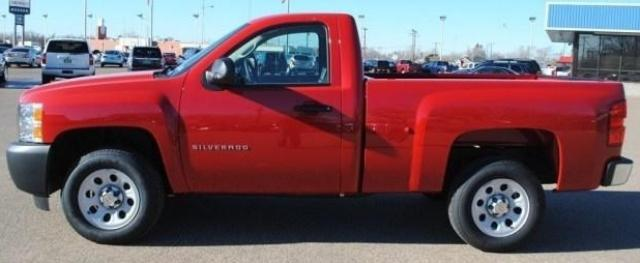pickup-truck: (4, 12, 636, 252)
